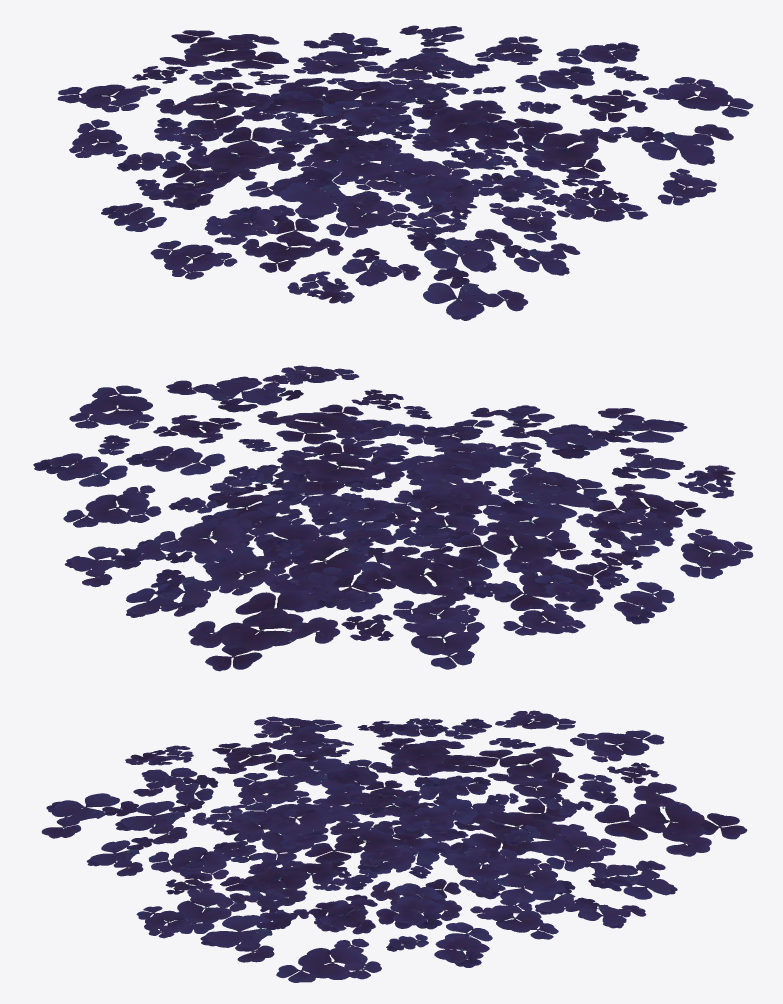
3 views of the same model, one above another, from view 1: azimuth 30°, elevation 25°; view 2: azimuth 150°, elevation 25°; view 3: azimuth 270°, elevation 25° (orthographic). The views are drawn at different scales.
Parts seen in each view (by area): view 1: SM_FH_WoodSorrel_04_LOD0; view 2: SM_FH_WoodSorrel_04_LOD0; view 3: SM_FH_WoodSorrel_04_LOD0.
Boxes of the visible parts, bbox=[...] form: SM_FH_WoodSorrel_04_LOD0: bbox=[57, 25, 753, 320]; SM_FH_WoodSorrel_04_LOD0: bbox=[33, 365, 753, 671]; SM_FH_WoodSorrel_04_LOD0: bbox=[41, 710, 747, 982].
Bounding box in the file's own units: 1.2 × 0.1087 × 1.29.
Materials: 1 (1 with a texture image).
